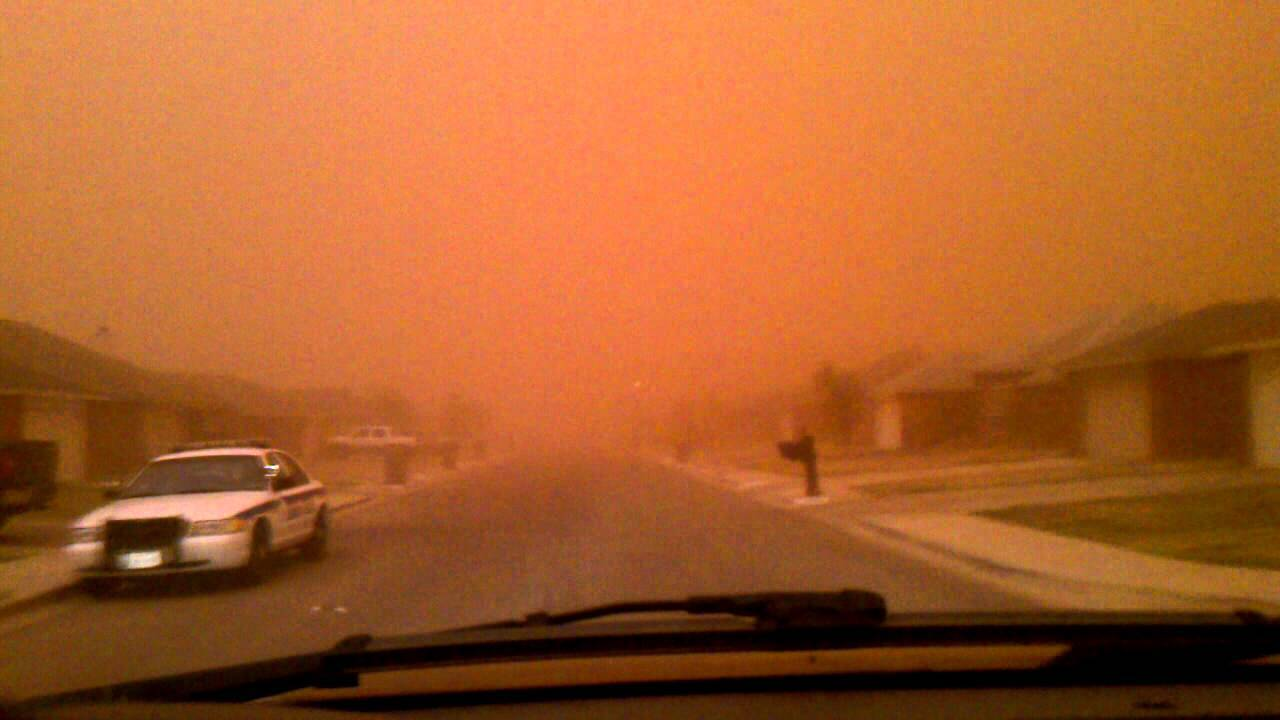car: (74, 443, 335, 590), (333, 421, 421, 456)
